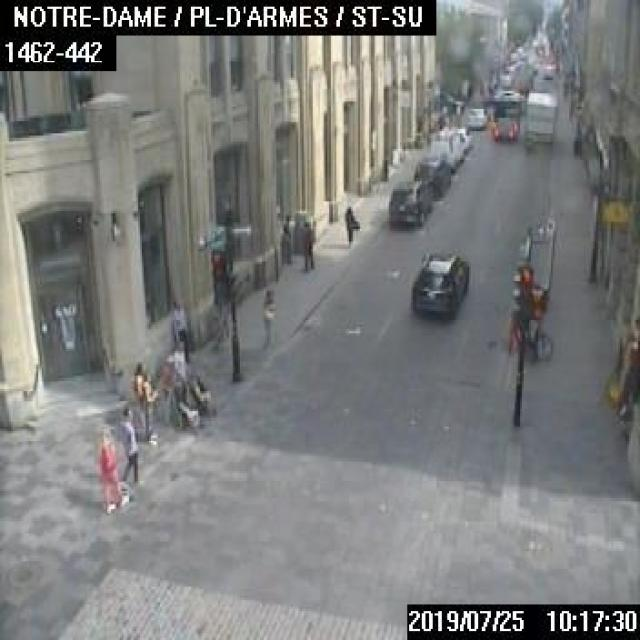pedestrian: (158, 352, 199, 431), (172, 336, 210, 415), (95, 427, 124, 511), (117, 403, 142, 485), (140, 373, 158, 448), (131, 361, 146, 432), (256, 286, 274, 344), (169, 298, 187, 344), (300, 213, 313, 269), (342, 202, 358, 245), (276, 218, 289, 269)
vehicle: (407, 249, 471, 318), (386, 180, 429, 227), (428, 121, 470, 168), (412, 151, 454, 197), (524, 90, 556, 148), (490, 89, 524, 140), (468, 104, 488, 125)
